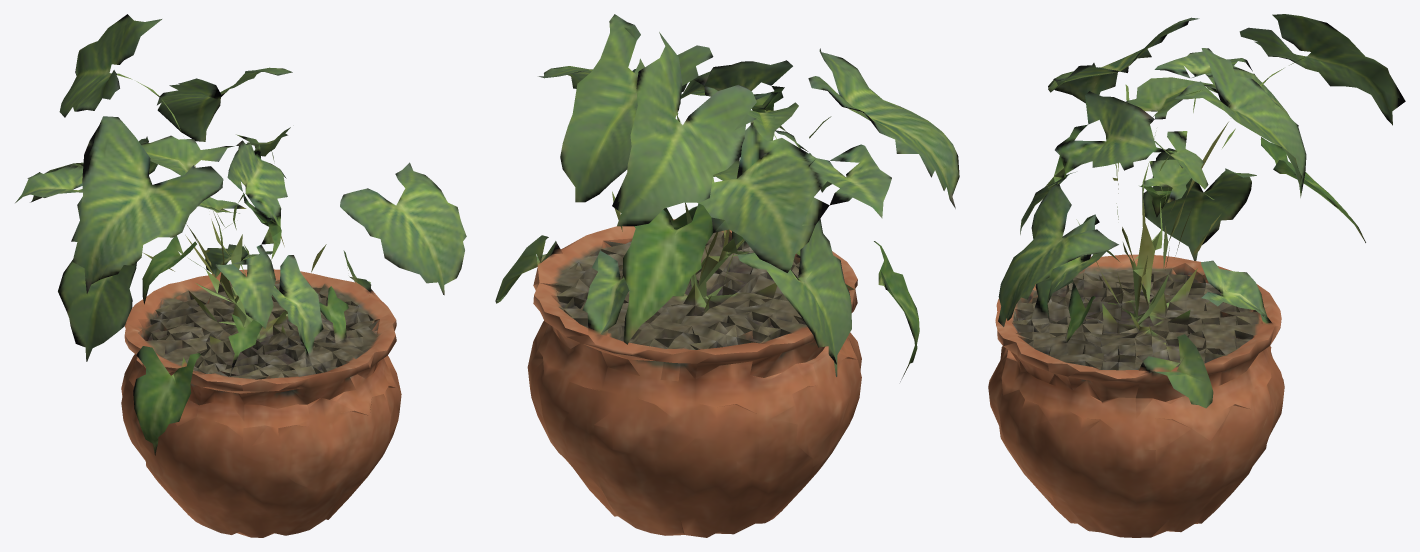
File: plant_pot2.glb
The picture shows the model from 3 angles, left to right: view 1: azimuth 30°, elevation 25°; view 2: azimuth 150°, elevation 25°; view 3: azimuth 270°, elevation 25°; orthographic projection. The views are drawn at different scales.
Visible parts, largest first — view 1: mesh; view 2: mesh; view 3: mesh.
Boxes of the visible parts, left/top/right/bottom form: mesh: left=15, top=14, right=466, bottom=537; mesh: left=495, top=14, right=959, bottom=537; mesh: left=988, top=14, right=1405, bottom=537.
Bounding box in the file's own units: 0.7003 × 0.8412 × 0.6731.
Materials: 1 (1 with a texture image).
